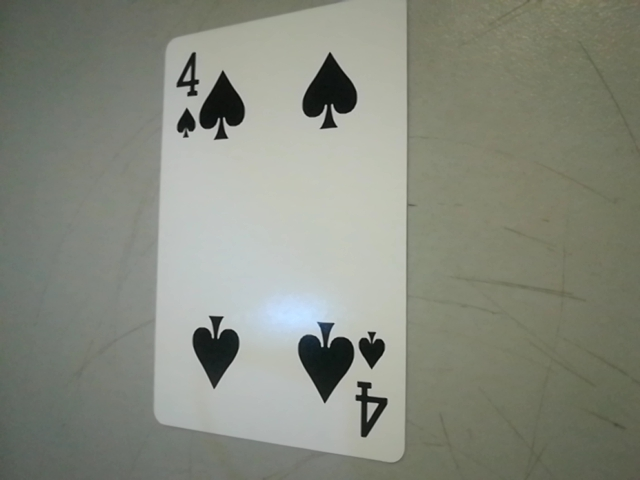ht 4: (340, 319, 401, 456)
